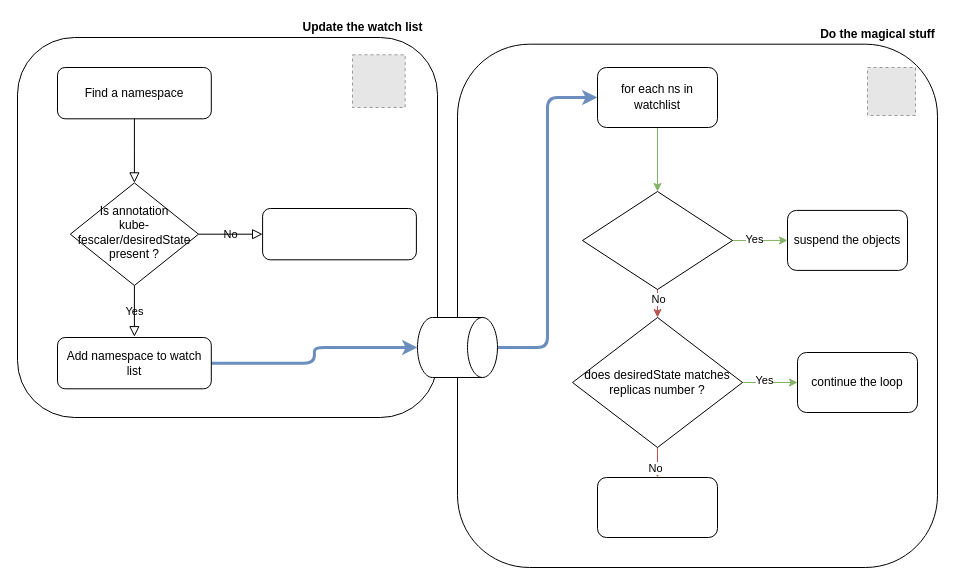
This 960x585 diagram has some shape labels left out. Grey dashed boxes stand in for pictures. The shapes that lost their labels are listed below. From the top down, each one's centre as x and y in pixels, then its label:
At (339,234): "Ignore the namespace".
At (657,240): "is it time to suspend the objects ?".
At (457,347): "channel that sends the ns".
At (657,507): "suspend/unsuspend the objects and loop again".
